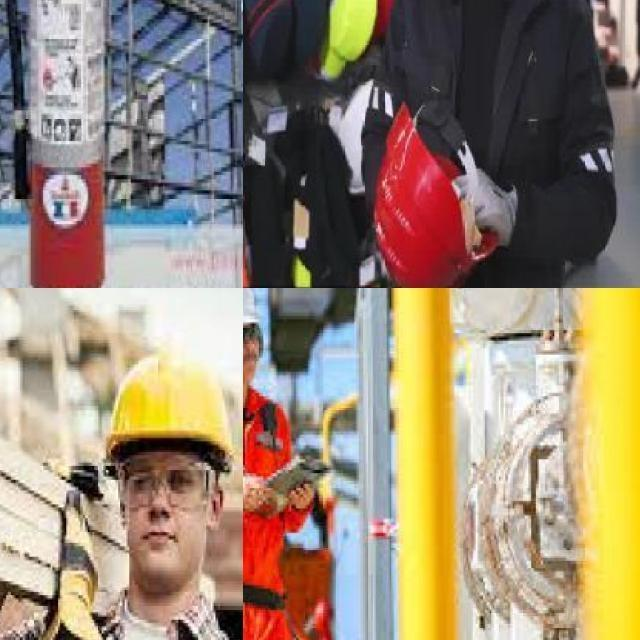apron: (43, 488, 104, 640), (450, 164, 523, 252)
